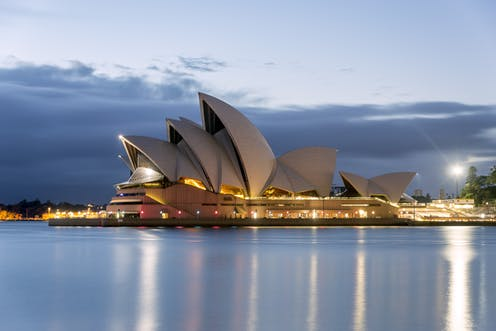opera house: (69, 84, 439, 222)
